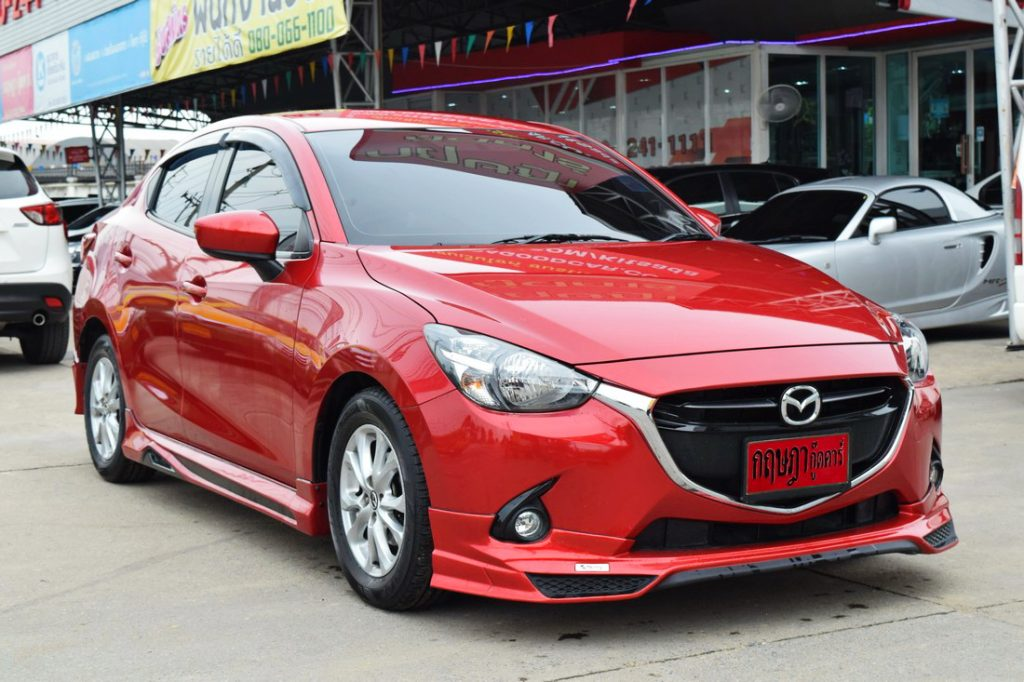sedan: (71, 105, 965, 615)
